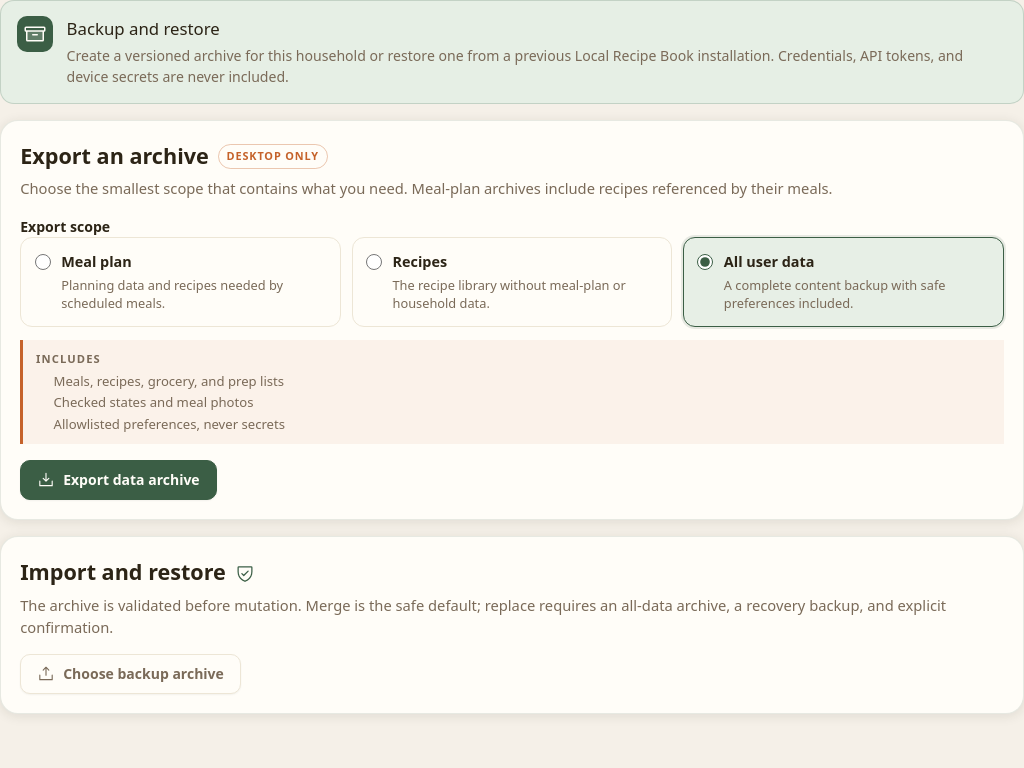
DataManagementSection › supports export loading, cancellation, success, and error states
Click the button "Export data archive" at [118, 480], box [20,460,217,500]
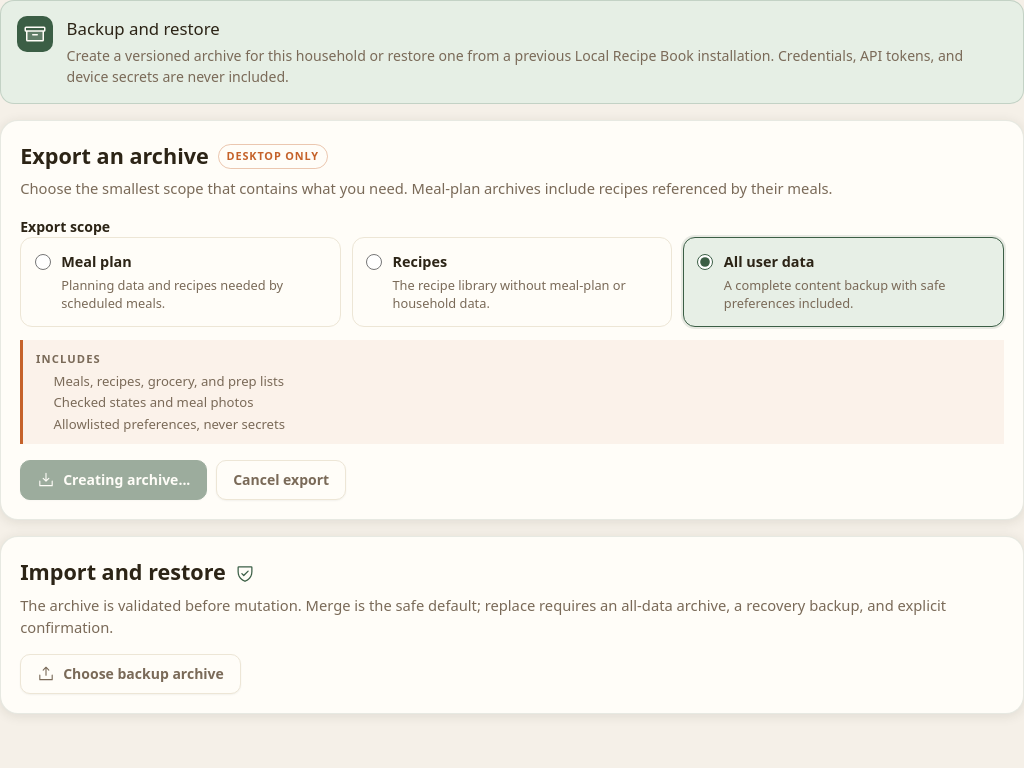
Check: the button "Creating archive..." is disabled, box [20,460,207,500]
Click the button "Cancel export" at [281, 480], box [216,460,346,500]
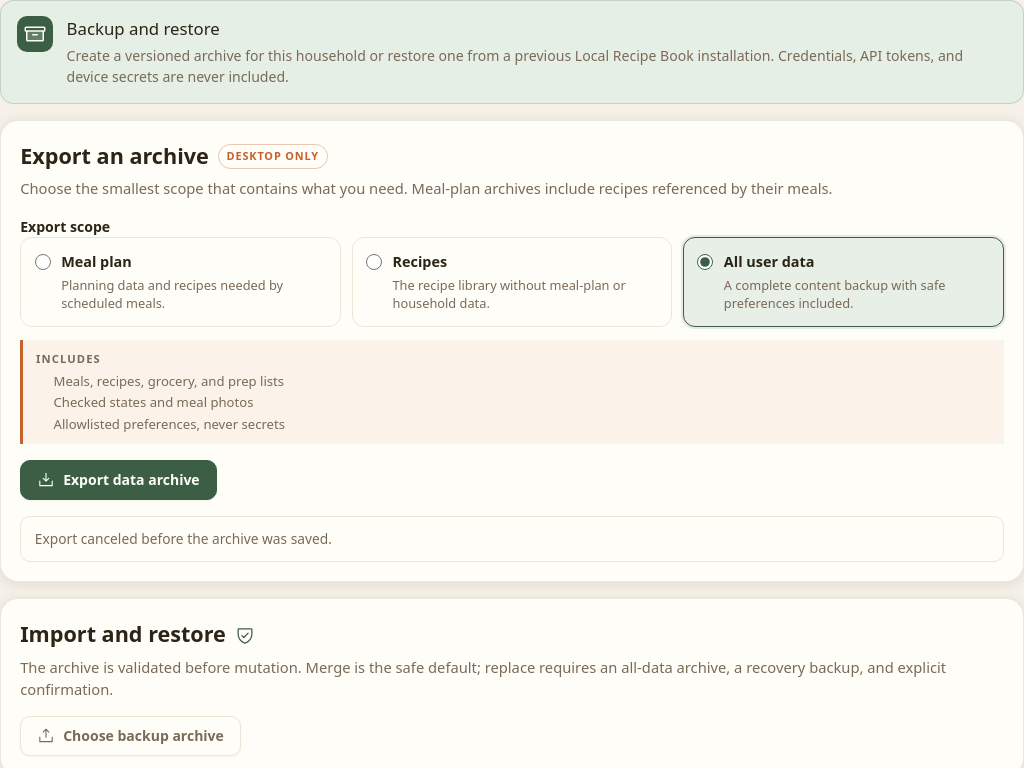
Check: the text "Export canceled before the archive was saved." is shown, box [20,516,1004,562]
Click the button "Export data archive" at [118, 480], box [20,460,217,500]
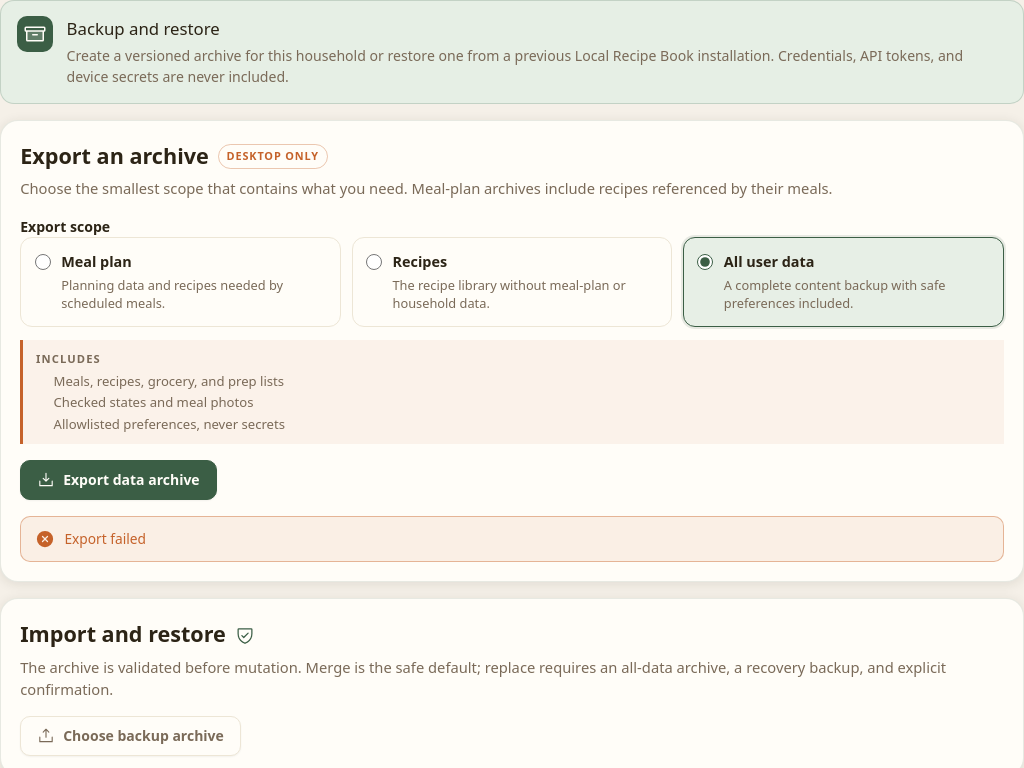
Check: the message reads "Export failed", box [64,529,146,548]
